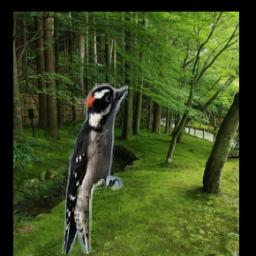Woodpecker: (63, 83, 129, 254)
